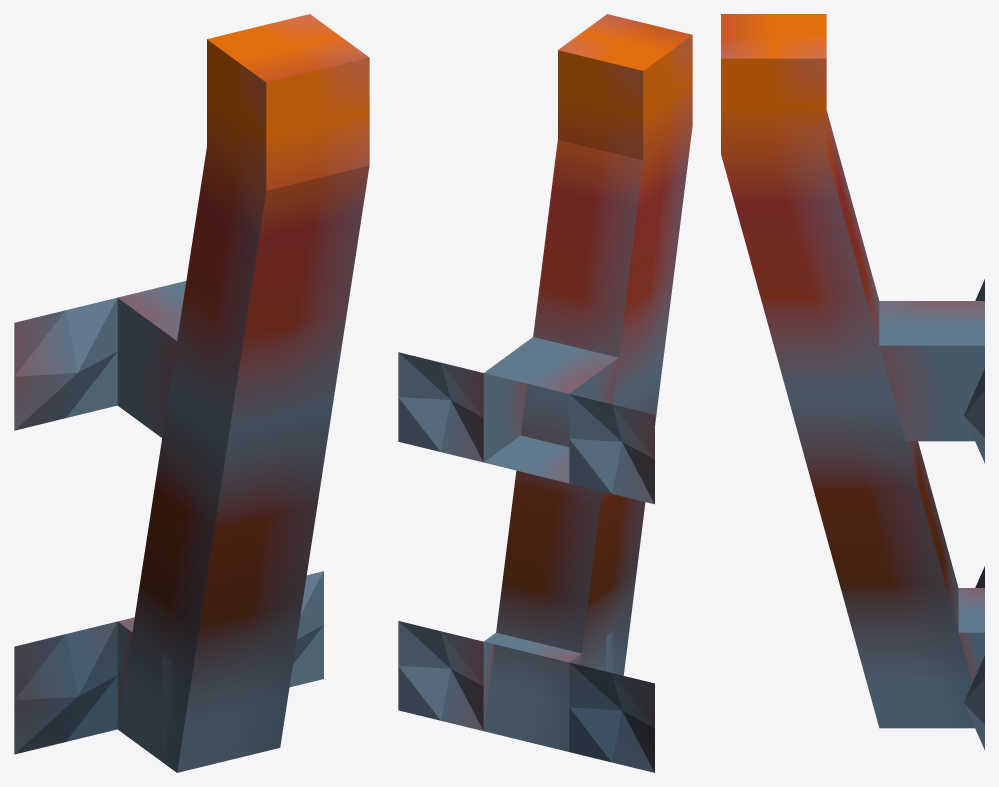
File: torch.obj
3 views of the same model, side by side, from view 1: azimuth 30°, elevation 25°; view 2: azimuth 150°, elevation 25°; view 3: azimuth 270°, elevation 25° (orthographic). The views are drawn at different scales.
Visible parts, largest first — view 1: Default; view 2: Default; view 3: Default.
Part boxes in pixels (<box>): Default: <box>14,14,369,772</box>; Default: <box>398,14,692,772</box>; Default: <box>721,14,984,749</box>.
Size of the model in its own units: 0.375 by 0.875 by 0.3125.
